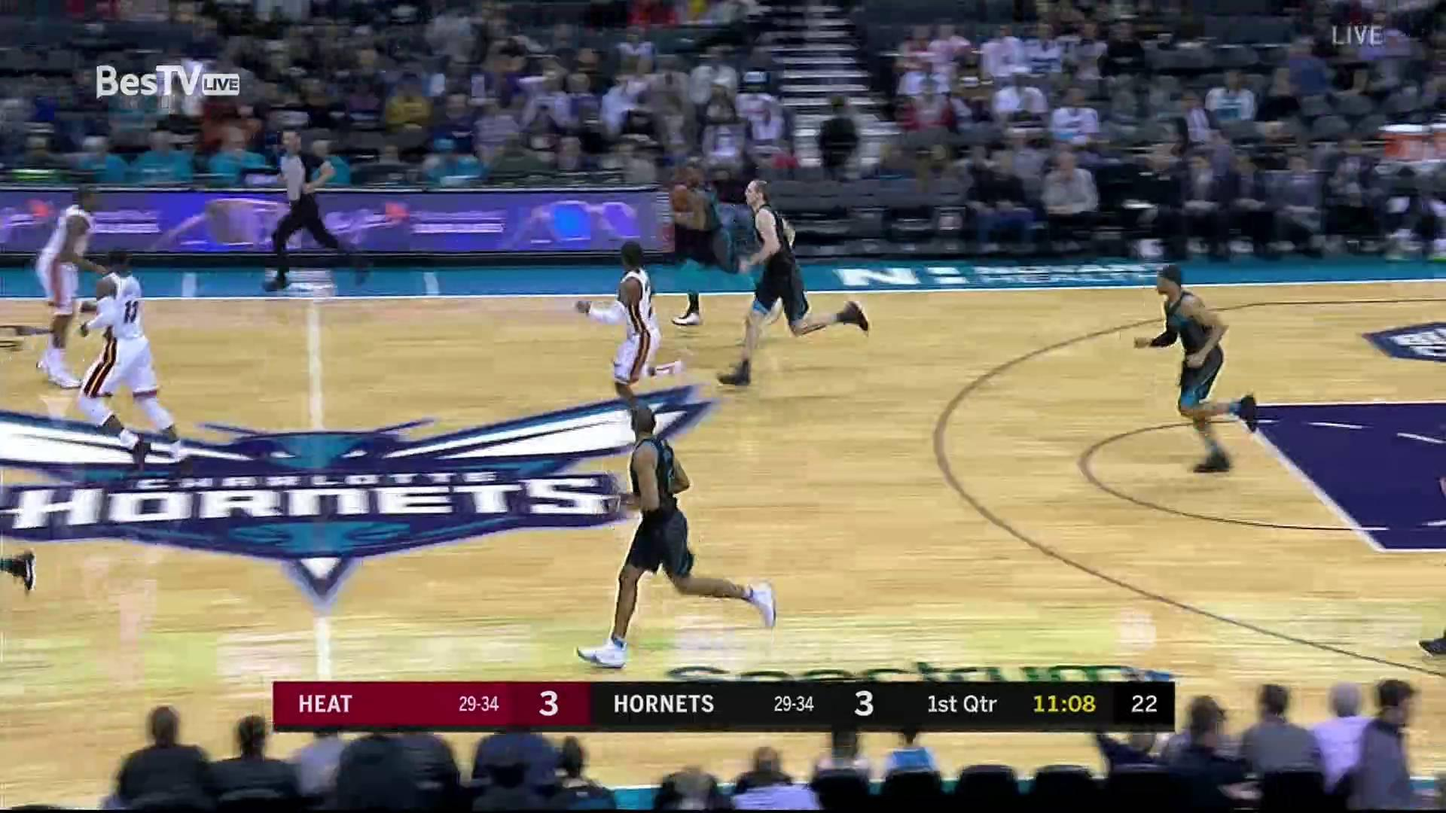basketball: (665, 182, 691, 211)
